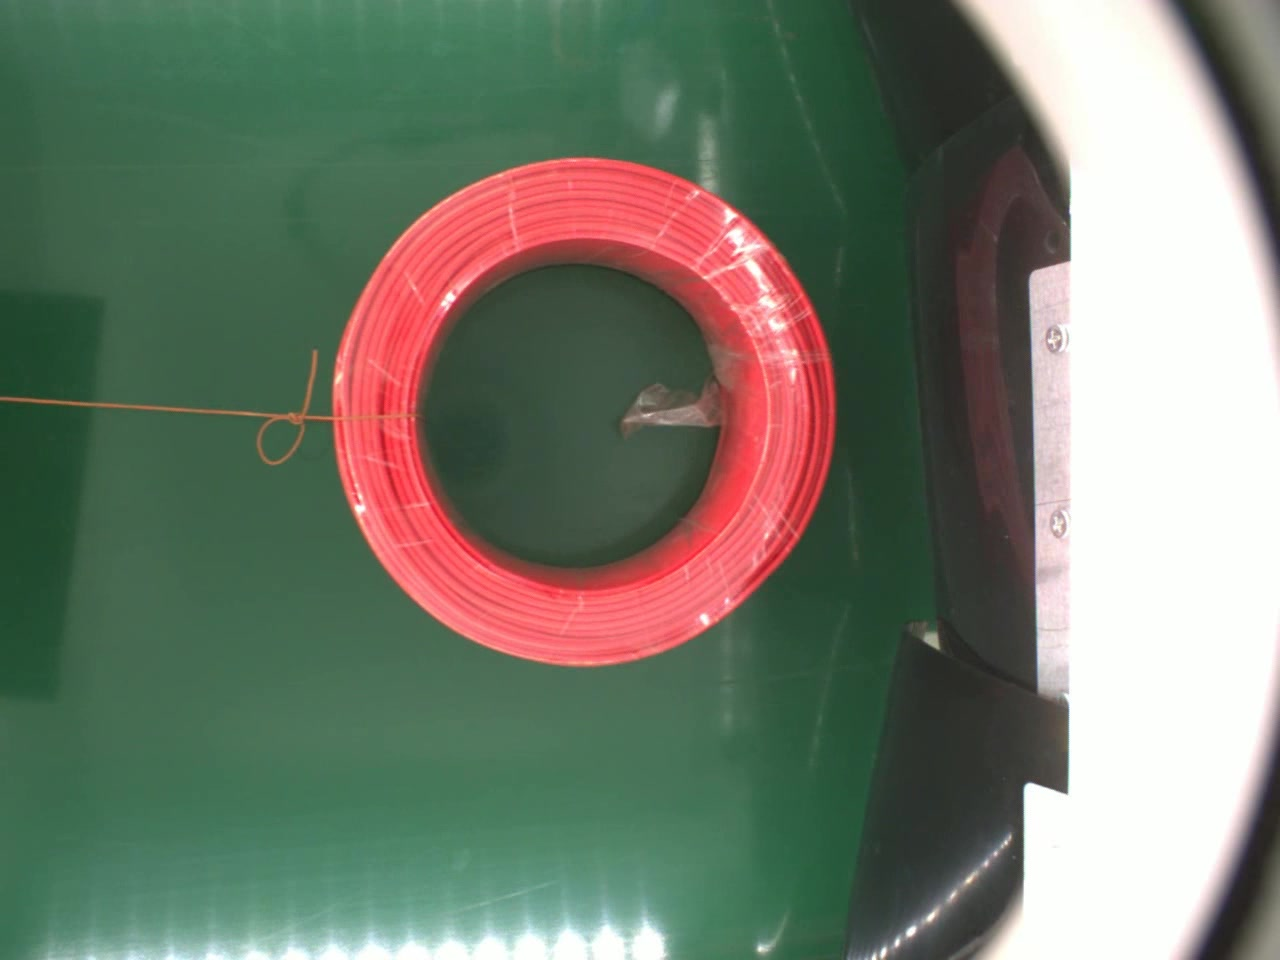red: (326, 153, 838, 668)
